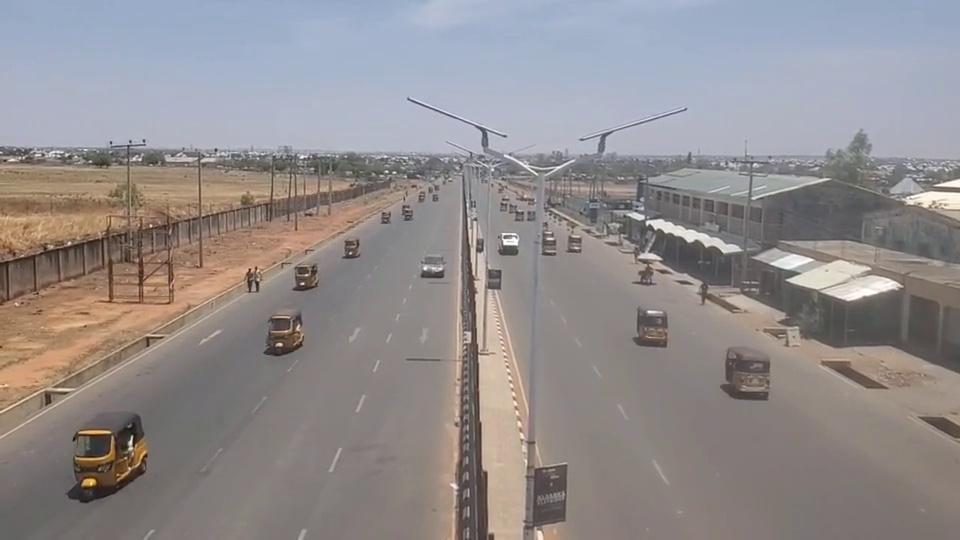keke: (71, 410, 148, 493), (724, 345, 770, 397), (265, 308, 304, 354), (636, 306, 668, 346)
